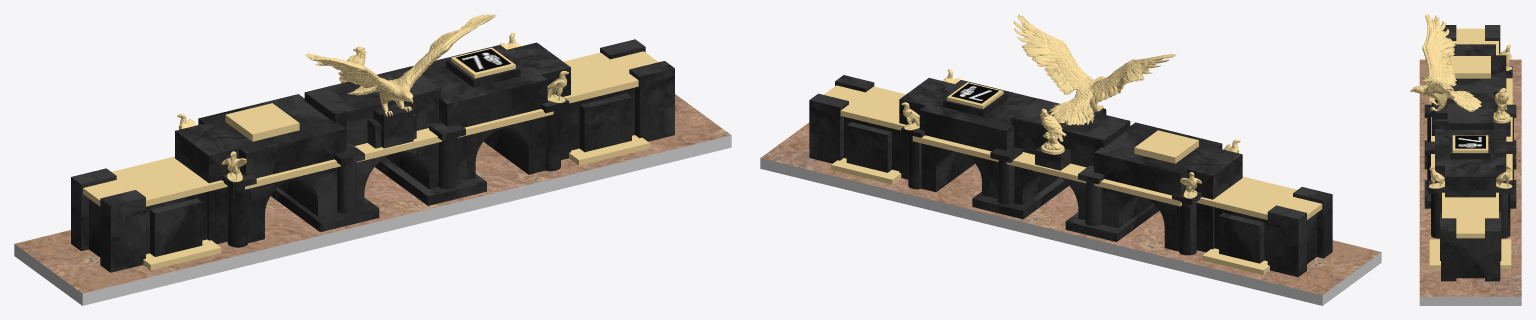
Rendered from buildingArcoTriunfo.glb.
3 views of the same model, side by side, from view 1: azimuth 30°, elevation 25°; view 2: azimuth 150°, elevation 25°; view 3: azimuth 270°, elevation 25° (orthographic). The views are drawn at different scales.
Parts seen in each view (by area): view 1: ArcoTriunfo; view 2: ArcoTriunfo; view 3: ArcoTriunfo.
Part boxes in pixels (x1=…): ArcoTriunfo: x1=14, y1=14, x2=731, y2=305; ArcoTriunfo: x1=760, y1=14, x2=1381, y2=305; ArcoTriunfo: x1=1410, y1=14, x2=1521, y2=305.
Bounding box in the file's own units: 11 × 3.04 × 2.18.
5 materials, 3 textured.
